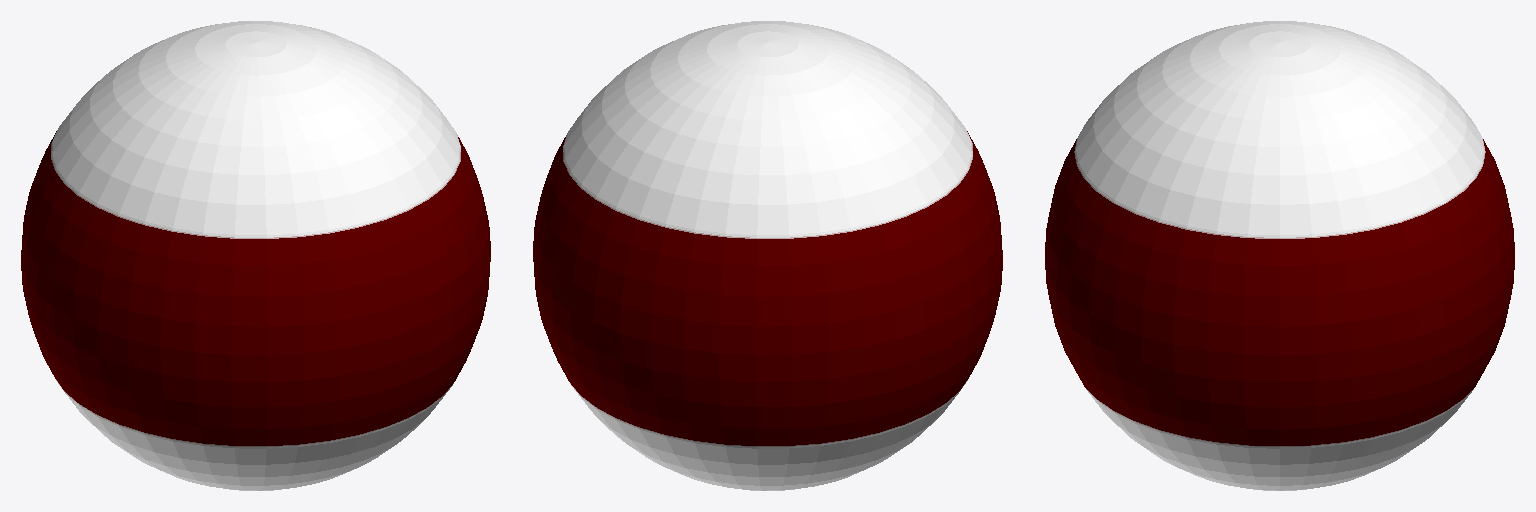
The picture shows the model from 3 angles: view 1: azimuth 30°, elevation 25°; view 2: azimuth 150°, elevation 25°; view 3: azimuth 270°, elevation 25°; orthographic projection.
Visible parts, largest first — view 1: 球_球.001; view 2: 球_球.001; view 3: 球_球.001.
Part boxes in pixels (bbox=[...]): 球_球.001: bbox=[21, 21, 490, 490]; 球_球.001: bbox=[533, 21, 1002, 490]; 球_球.001: bbox=[1045, 21, 1514, 490].
Bounding box in the file's own units: 2 × 2 × 2.
1 materials, 1 textured.